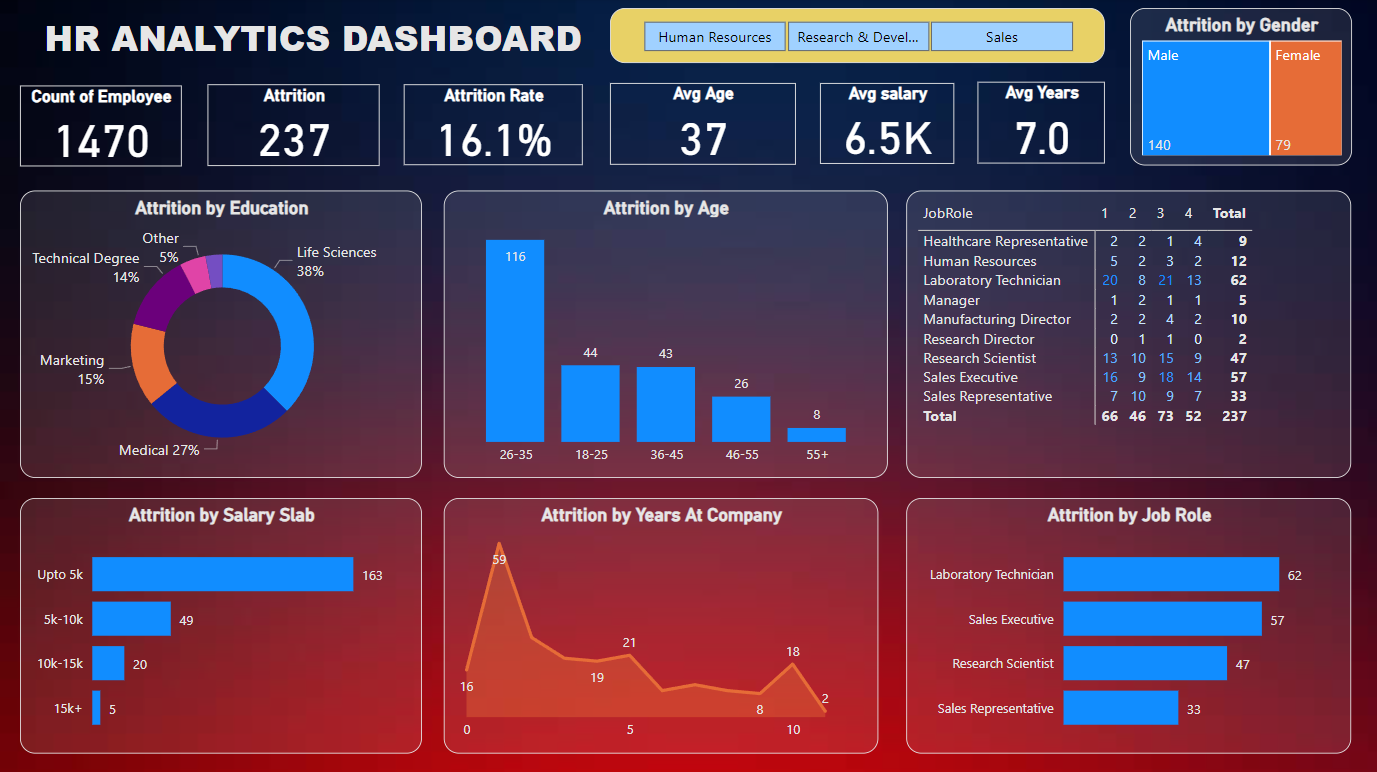

The page's visual inventory and layout, read from the dashboard file:
{"tool":"powerbi","page":{"name":"Page 1","canvas":[1280,720],"ordinal":0},"visuals":[{"type":"card","title":"Count of Employee","fields":{"Values":["CountNonNull(HR_Analytics.EmpID)"]},"box":[18.8,81.2,150,75],"z":0},{"type":"card","title":"Attrition","fields":{"Values":["Sum(HR_Analytics.AttritionCount)"]},"box":[192.5,80,160,76.2],"z":1000},{"type":"card","title":"Avg Age","fields":{"Values":["Avg(HR_Analytics.Age)"]},"box":[567.5,78.8,172.5,76.2],"z":2000},{"type":"card","title":"Attrition Rate","fields":{"Values":["HR_Analytics.AttritionRate"]},"box":[375,80,166.2,75],"z":3000},{"type":"card","title":"Avg salary","fields":{"Values":["Avg(HR_Analytics.MonthlyIncome)"]},"box":[762.5,78.8,125,75],"z":4000},{"type":"card","title":"Avg Years","fields":{"Values":["Avg(HR_Analytics.YearsAtCompany)"]},"box":[908.8,77.5,118.8,76.2],"z":5000},{"type":"donutChart","title":"Attrition by Education","fields":{"Category":["HR_Analytics.EducationField"],"Y":["Sum(HR_Analytics.AttritionCount)"]},"box":[18.8,178.8,373.8,267.5],"z":6000},{"type":"columnChart","title":"Attrition by Age","fields":{"Category":["HR_Analytics.AgeGroup"],"Y":["Sum(HR_Analytics.AttritionCount)"]},"box":[412.5,178.8,412.5,267.5],"z":7000},{"type":"pivotTable","fields":{"Rows":["HR_Analytics.JobRole"],"Columns":["HR_Analytics.JobSatisfaction"],"Values":["Sum(HR_Analytics.AttritionCount)"]},"box":[842.5,178.8,413.8,267.5],"z":8000},{"type":"barChart","title":"Attrition by Job Role","fields":{"Category":["HR_Analytics.JobRole"],"Y":["Sum(HR_Analytics.AttritionCount)"]},"box":[842.5,465,413.8,237.5],"z":9000},{"type":"barChart","title":"Attrition by Salary Slab","fields":{"Category":["HR_Analytics.SalarySlab"],"Y":["Sum(HR_Analytics.AttritionCount)"]},"box":[18.8,465,373.8,237.5],"z":9001},{"type":"areaChart","title":"Attrition by Years At Company","fields":{"Category":["HR_Analytics.YearsAtCompany"],"Y":["Sum(HR_Analytics.AttritionCount)"]},"box":[412.5,465,403.8,237.5],"z":9002},{"type":"treemap","title":"Attrition by Gender","fields":{"Group":["HR_Analytics.Gender"],"Values":["Sum(HR_Analytics.AttritionCount)"]},"box":[1050,8.8,206.2,146.2],"z":9003},{"type":"slicer","fields":{"Values":["HR_Analytics.Department"]},"box":[567.5,8.8,460,51.2],"z":9004},{"type":"textbox","box":[18.8,8.8,576.2,61.2],"z":9005}]}

Visuals, with their boxes in screenshot pixels (x1, y1, x2, y2), scaled from the page's 1280x720 canvas onto the 1377x772 screenshot:
"Count of Employee" card: [left=20, top=87, right=182, bottom=167]
"Attrition" card: [left=207, top=86, right=379, bottom=167]
"Avg Age" card: [left=611, top=84, right=796, bottom=166]
"Attrition Rate" card: [left=403, top=86, right=582, bottom=166]
"Avg salary" card: [left=820, top=84, right=955, bottom=165]
"Avg Years" card: [left=978, top=83, right=1105, bottom=165]
"Attrition by Education" donutChart: [left=20, top=192, right=422, bottom=479]
"Attrition by Age" columnChart: [left=444, top=192, right=888, bottom=479]
pivotTable - HR_Analytics.JobRole x HR_Analytics.JobSatisfaction: [left=906, top=192, right=1352, bottom=479]
"Attrition by Job Role" barChart: [left=906, top=499, right=1352, bottom=753]
"Attrition by Salary Slab" barChart: [left=20, top=499, right=422, bottom=753]
"Attrition by Years At Company" areaChart: [left=444, top=499, right=878, bottom=753]
"Attrition by Gender" treemap: [left=1130, top=9, right=1351, bottom=166]
slicer - HR_Analytics.Department: [left=611, top=9, right=1105, bottom=64]
textbox: [left=20, top=9, right=640, bottom=75]
